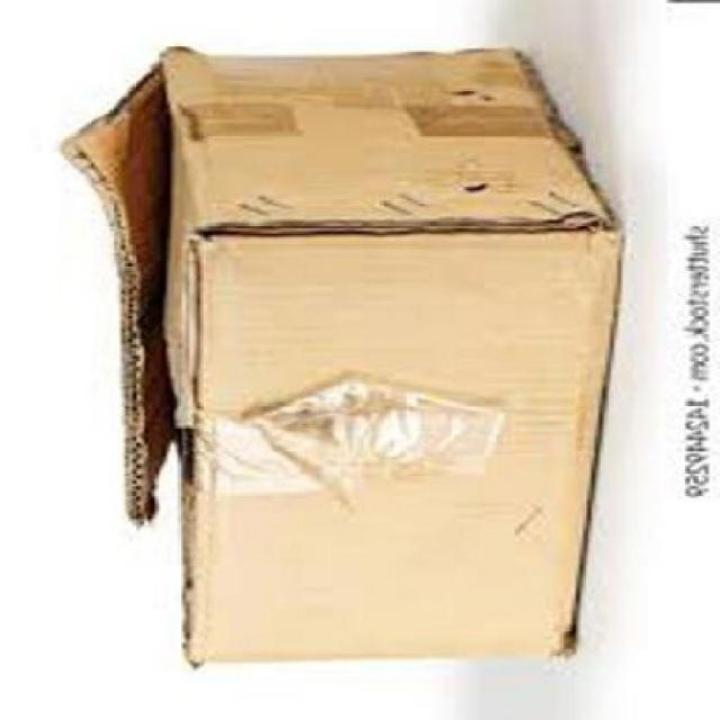package: (68, 50, 621, 667)
